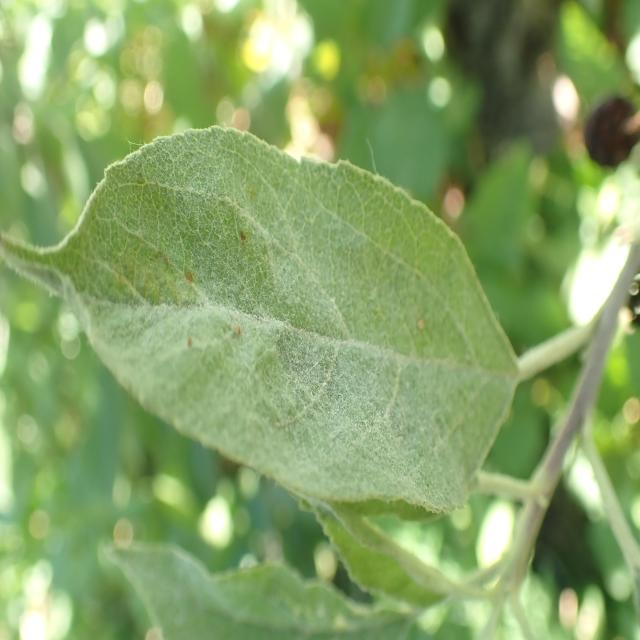Powdery_mildew: (13, 126, 519, 502), (104, 526, 486, 640)
